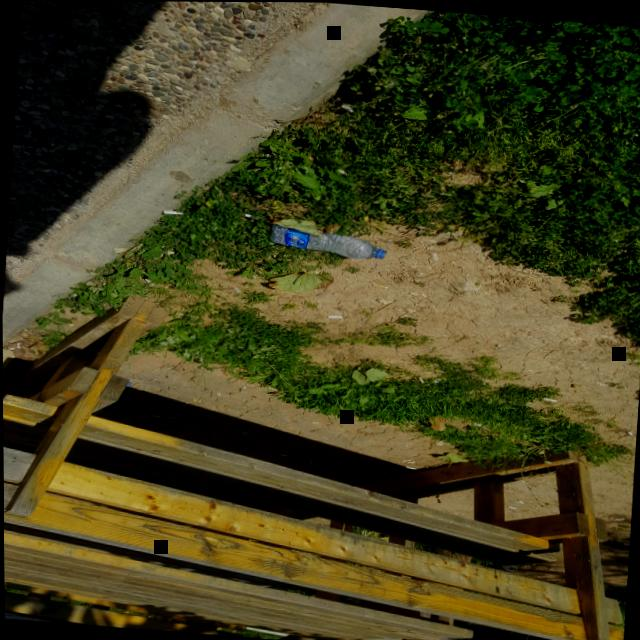Cigarette: (335, 167, 348, 176), (340, 104, 354, 112), (161, 210, 182, 214), (372, 283, 388, 288), (243, 213, 256, 219), (541, 396, 556, 401), (416, 375, 424, 382), (23, 328, 32, 334), (327, 315, 343, 318), (144, 278, 152, 284), (277, 453, 288, 457), (404, 465, 415, 469), (380, 470, 387, 476), (624, 429, 632, 434), (150, 414, 160, 418), (258, 442, 270, 445), (69, 317, 76, 321), (506, 505, 515, 508), (622, 541, 628, 545), (515, 499, 523, 502), (614, 517, 624, 519), (16, 343, 20, 348), (308, 459, 312, 463)
Clear plastic bottle: (270, 223, 387, 258)
Unlabeled litter: (473, 422, 481, 425)
